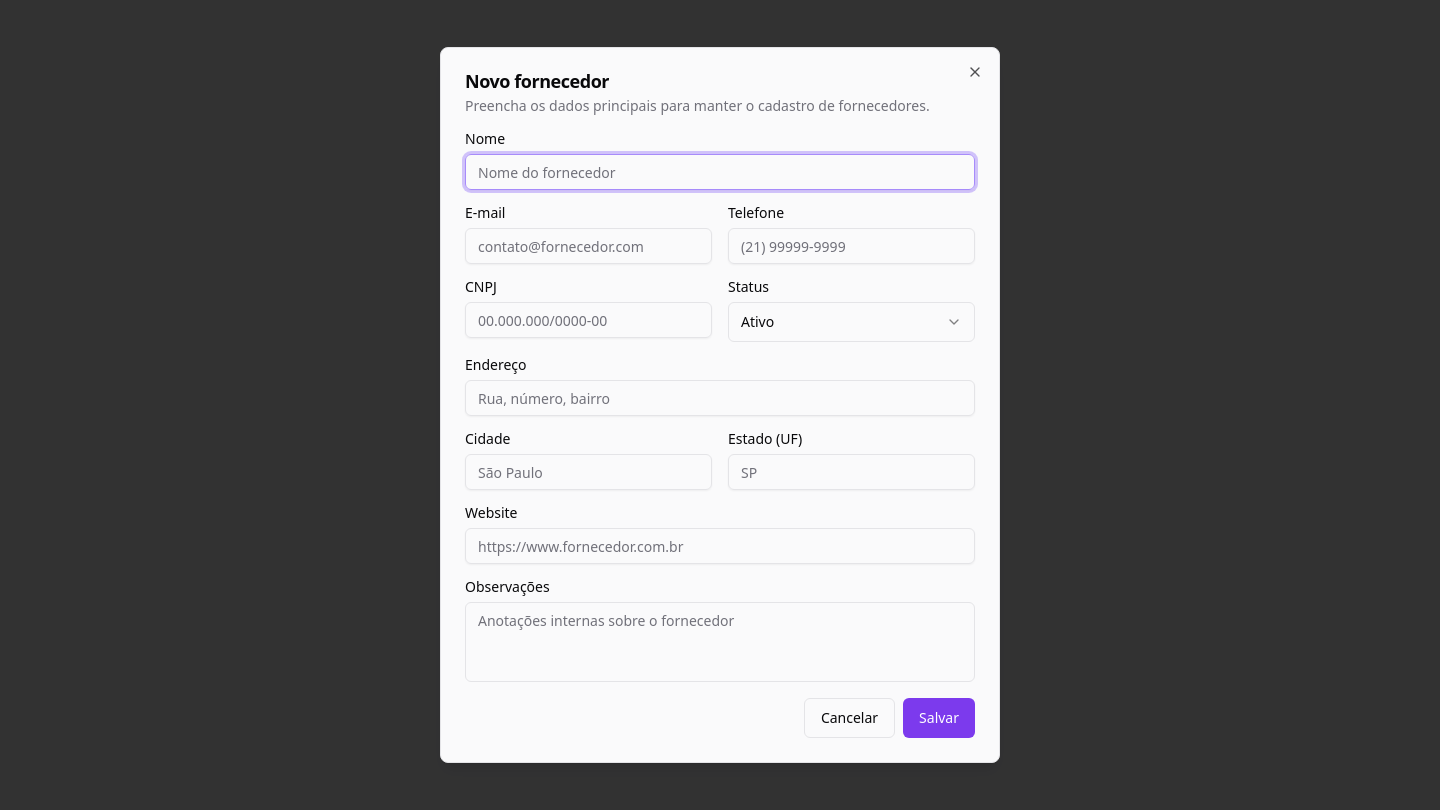
SupplierFormDialog › applies CNPJ mask as user types digits
In the field labelled "CNPJ": (588, 320) [465,302,712,338], type "12345678000190"
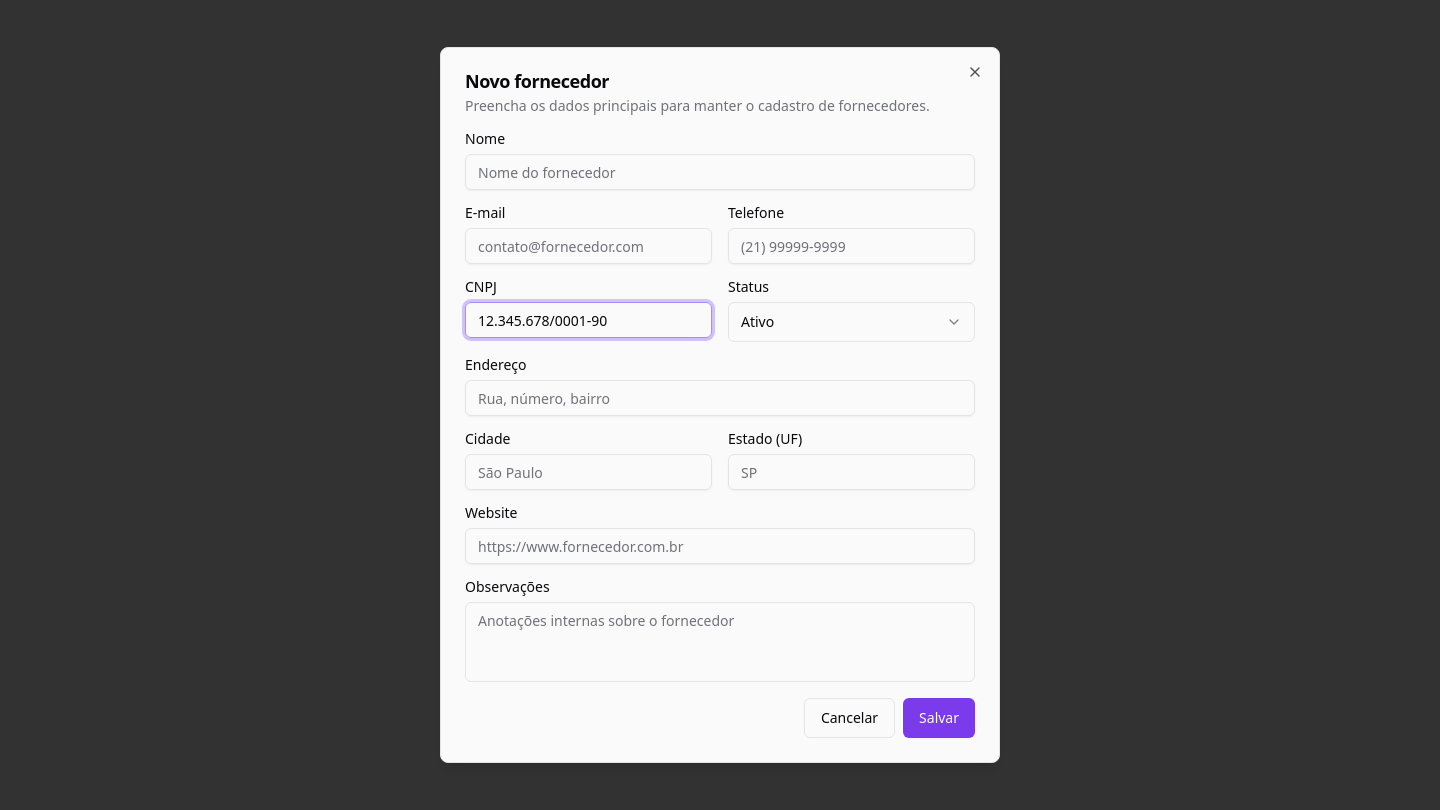
Check: the field labelled "CNPJ" holds "12.345.678/0001-90", box [465,302,712,338]
